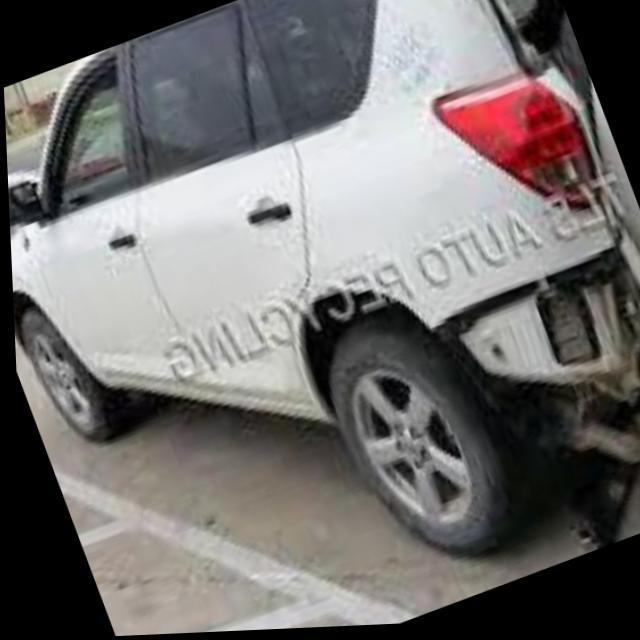glass shatter: (482, 0, 566, 76)
no part: (427, 247, 640, 555)
